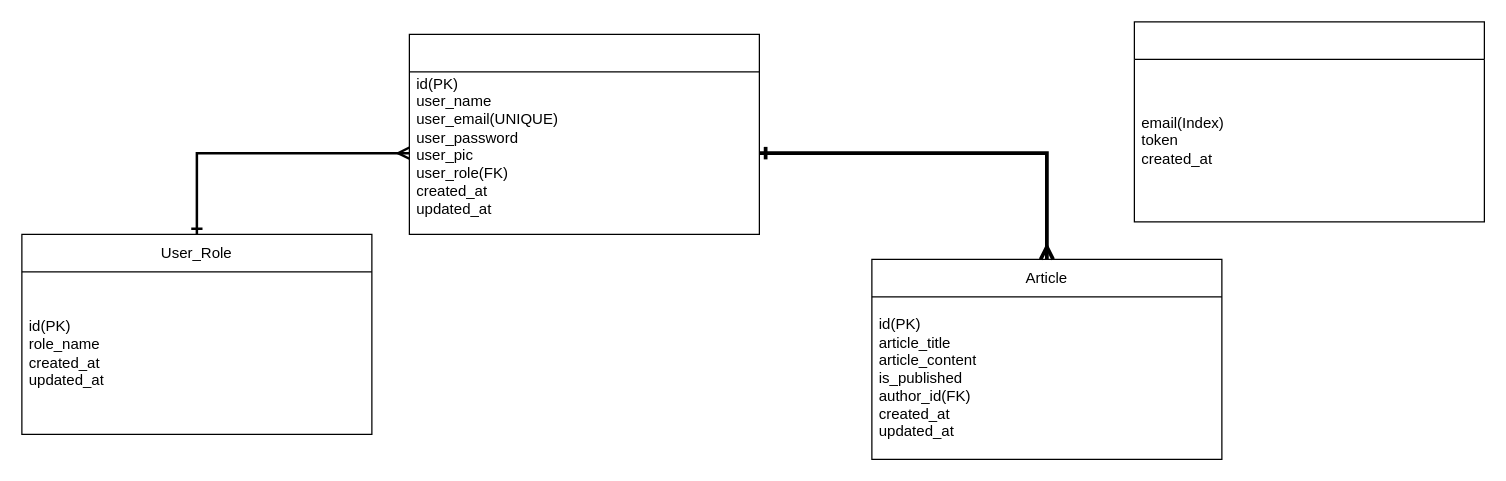
Image size: 1506x481. Some labels were removed from this diagram. Each missing label, with the box of its shape:
Password_Reset: (1133, 21, 1484, 222)
Users: (408, 33, 759, 234)
